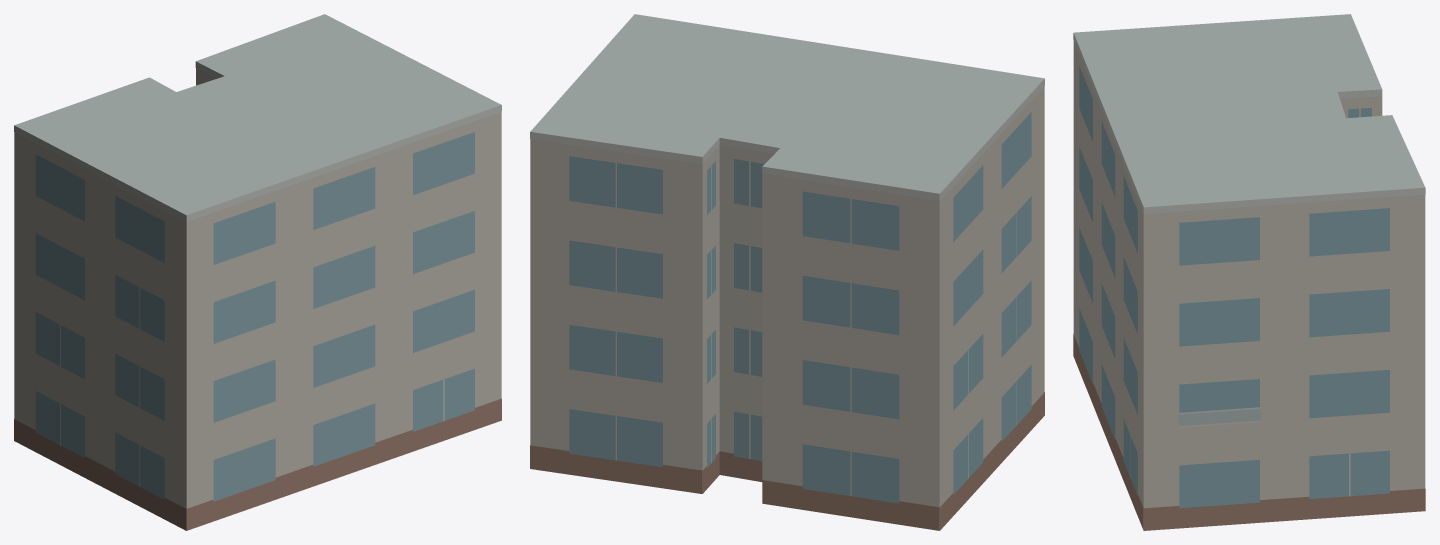
File: survey-upis-32701267.glb
3 views of the same model, side by side, from view 1: azimuth 30°, elevation 25°; view 2: azimuth 150°, elevation 25°; view 3: azimuth 270°, elevation 25° (orthographic). The views are drawn at different scales.
Visible parts, largest first — view 1: survey-upis-32701267.tmp; view 2: survey-upis-32701267.tmp; view 3: survey-upis-32701267.tmp.
Part boxes in pixels (box(x1,y1,x2,y2)): survey-upis-32701267.tmp: box(14, 14, 501, 530); survey-upis-32701267.tmp: box(530, 14, 1044, 530); survey-upis-32701267.tmp: box(1073, 14, 1425, 530).
Bounding box in the file's own units: 14.76 × 11.5 × 11.35.
